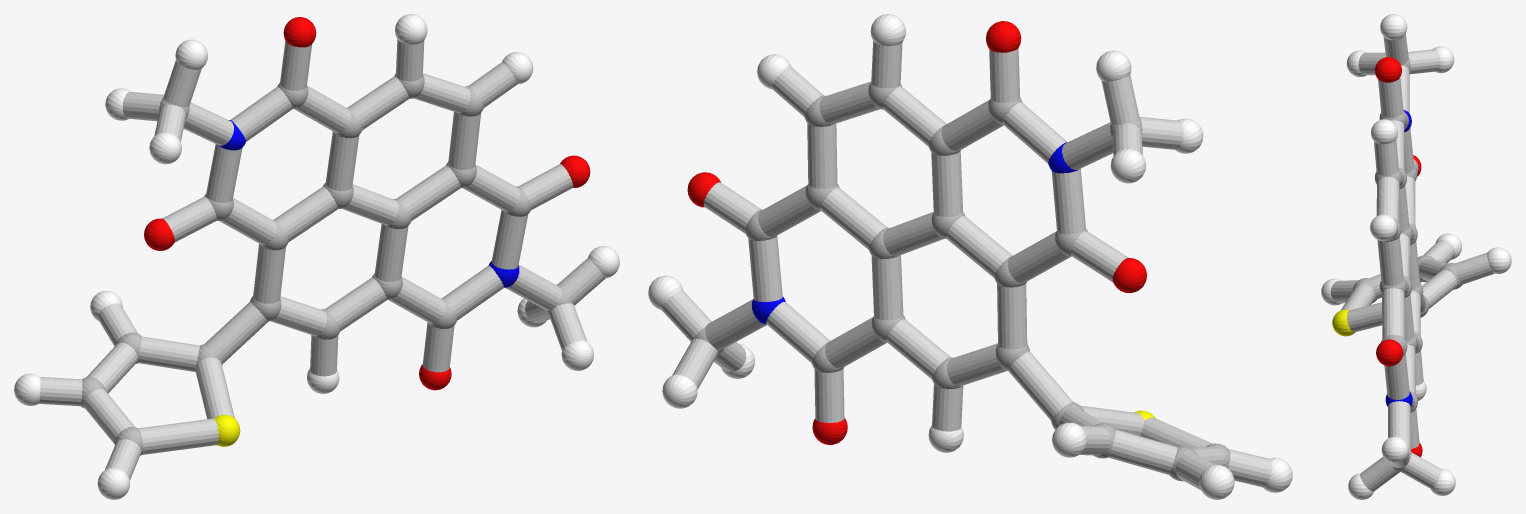
File: Dimethyl_Naphthalene_Dicarboximide_Phi_30_Theta_70_Thiophene.glb
3 views of the same model, side by side, from view 1: azimuth 30°, elevation 25°; view 2: azimuth 150°, elevation 25°; view 3: azimuth 270°, elevation 25° (orthographic). The views are drawn at different scales.
Parts seen in each view (by area): view 1: grp14119, grp7241, grp1, grp12309, grp11585; view 2: grp14119, grp7241, grp1, grp12309, grp11585; view 3: grp14119, grp7241, grp1, grp12309, grp13757, grp11585.
Boxes of the visible parts, <box> form: grp14119: <box>39,39,605,480</box>; grp7241: <box>14,14,619,499</box>; grp1: <box>80,73,572,455</box>; grp12309: <box>144,17,590,390</box>; grp11585: <box>218,120,519,287</box>; grp14119: <box>661,41,1271,490</box>; grp7241: <box>648,14,1292,499</box>; grp1: <box>693,82,1230,481</box>; grp12309: <box>687,21,1146,444</box>; grp11585: <box>751,142,1078,324</box>; grp14119: <box>1330,33,1494,491</box>; grp7241: <box>1321,14,1511,499</box>; grp1: <box>1352,57,1462,471</box>; grp12309: <box>1375,57,1422,457</box>; grp13757: <box>1332,309,1354,336</box>; grp11585: <box>1385,110,1412,406</box>.
Size of the model in its own units: 12.06 by 8.43 by 4.21.
